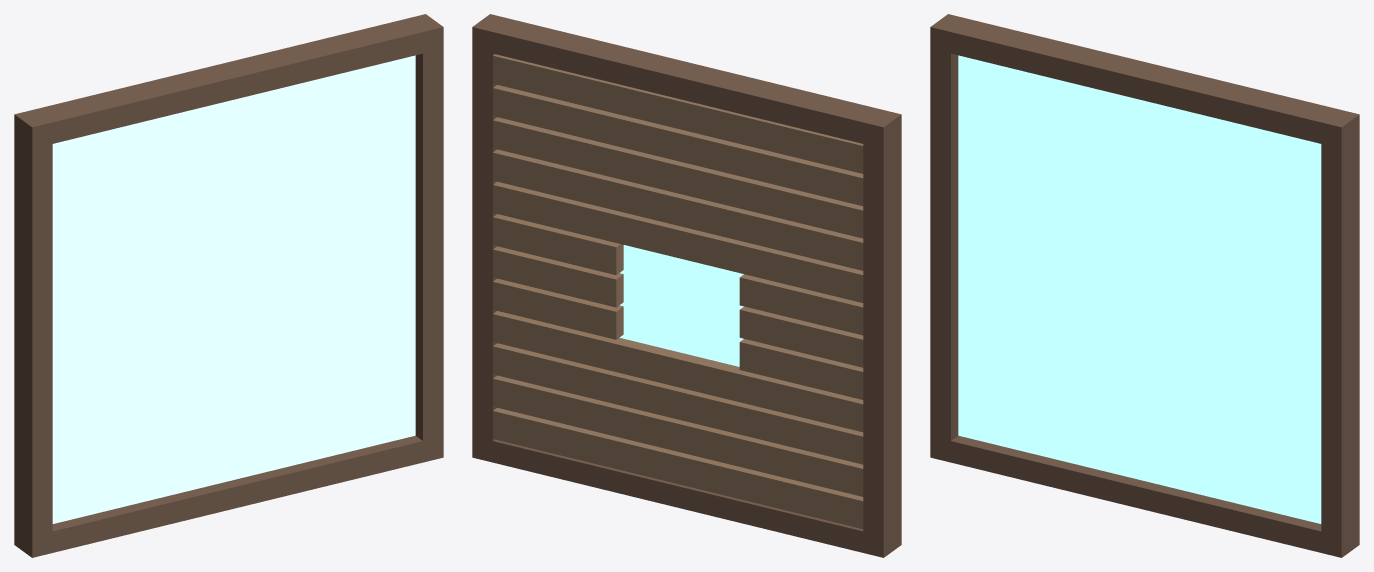
File: haunted_wall_brokenglow.glb
3 views of the same model, side by side, from view 1: azimuth 30°, elevation 25°; view 2: azimuth 150°, elevation 25°; view 3: azimuth 330°, elevation 25° (orthographic).
Parts seen in each view (by area): view 1: Haunted_Wall_BrokenGlow; view 2: Haunted_Wall_BrokenGlow; view 3: Haunted_Wall_BrokenGlow.
Boxes of the visible parts, x1,y1,x2,y2 form: Haunted_Wall_BrokenGlow: [14, 14, 443, 557]; Haunted_Wall_BrokenGlow: [472, 14, 901, 557]; Haunted_Wall_BrokenGlow: [930, 14, 1359, 557].
Size of the model in its own units: 4 by 4 by 0.3.
